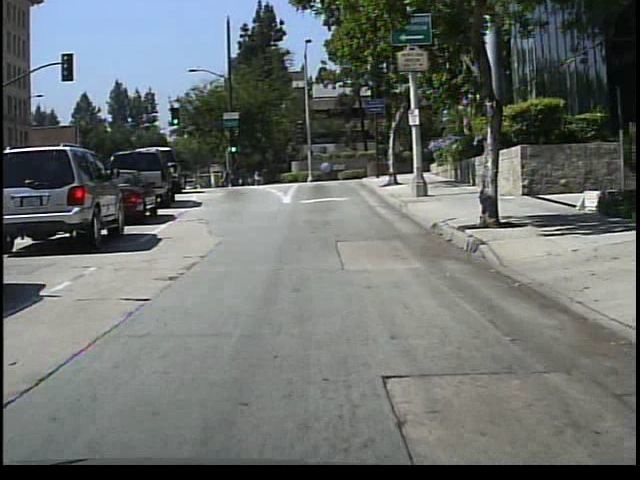person: (219, 165, 234, 189), (250, 165, 265, 189)
